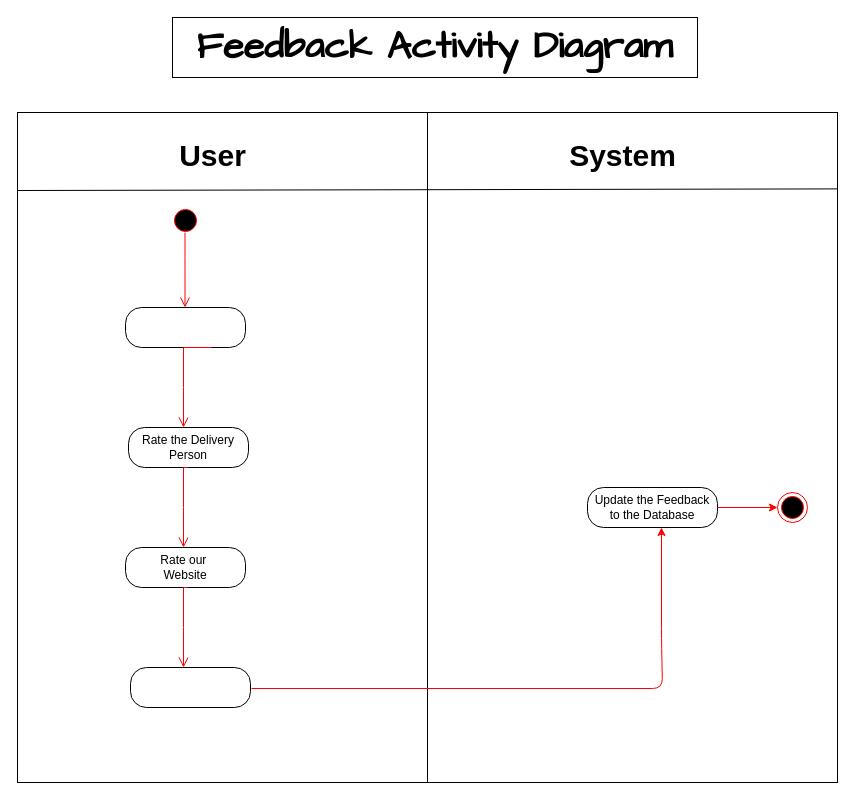
This 856x801 diagram has some shape labels left out. Each missing label, with the centre of its shape:
"Rate Our Product" goes at [185,327].
"Suggestions or Feedback" goes at [190,687].
